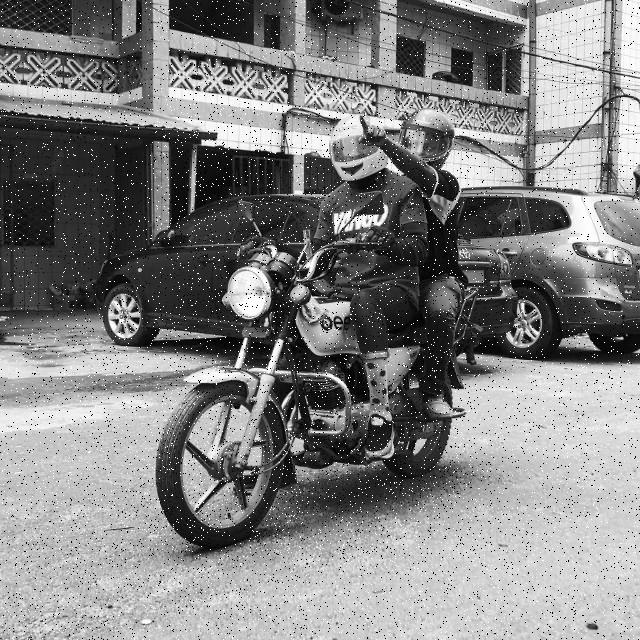Motorbike: (156, 109, 466, 550)
